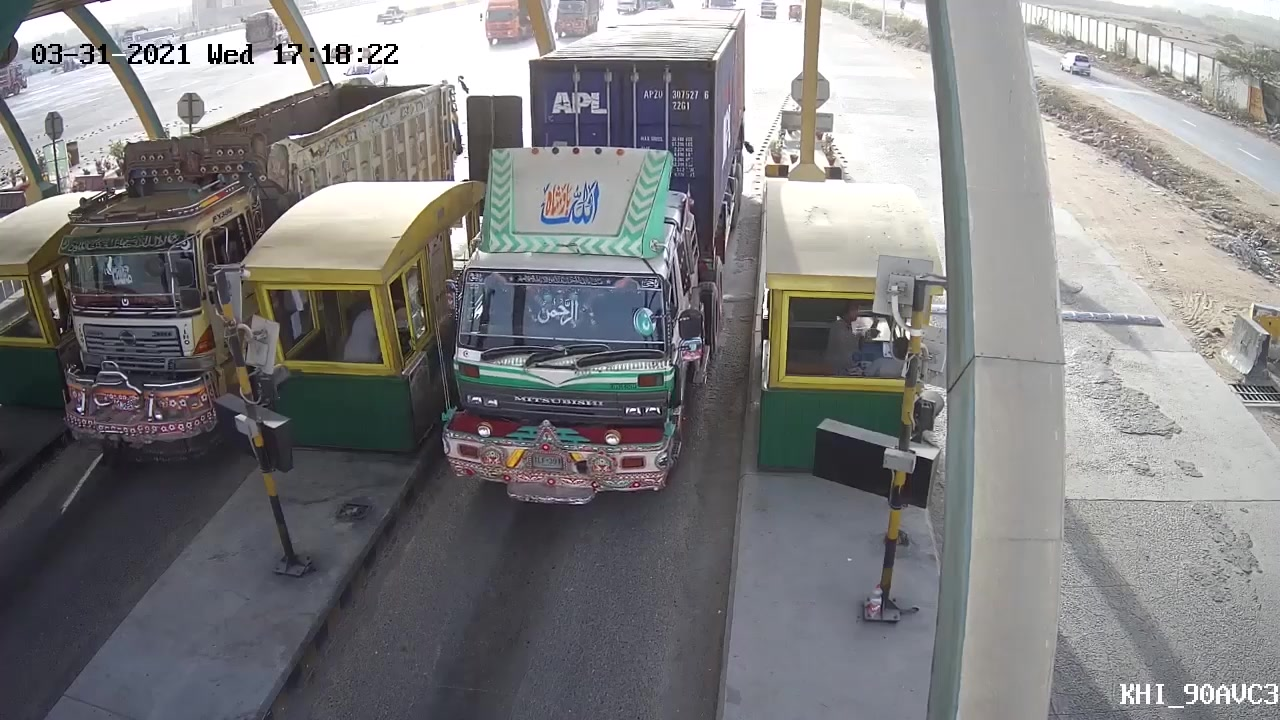F6: (438, 56, 725, 539)
